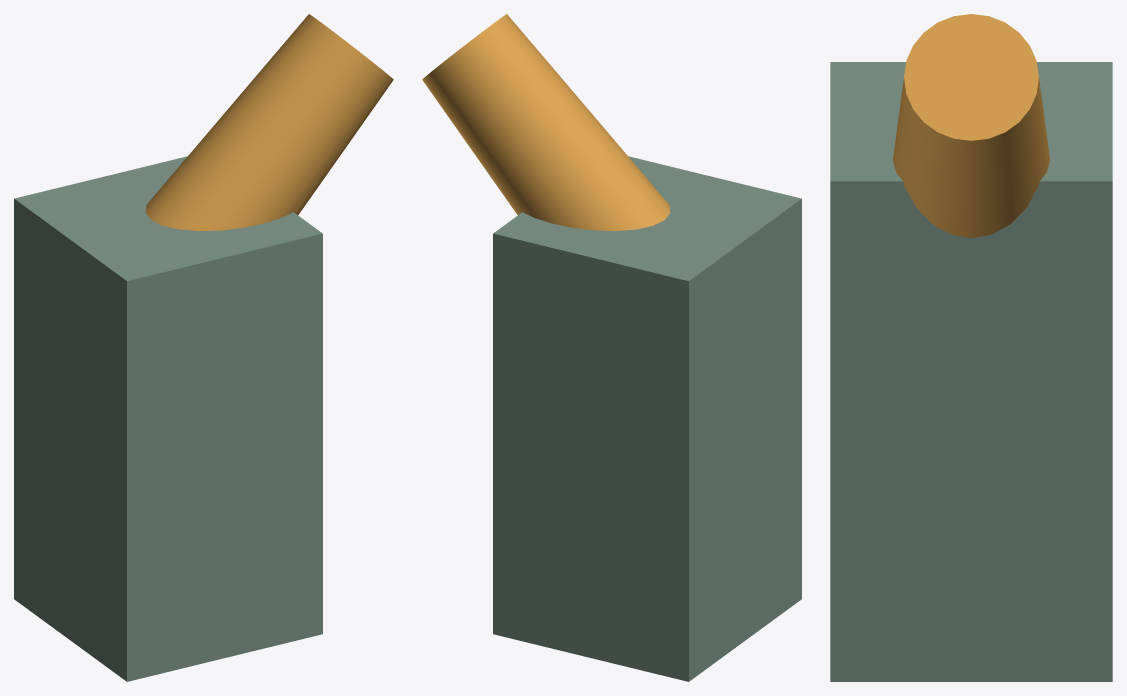
The model's file is projectile_launcher_rig.glb.
3 views of the same model, side by side, from view 1: azimuth 30°, elevation 25°; view 2: azimuth 150°, elevation 25°; view 3: azimuth 270°, elevation 25° (orthographic). The views are drawn at different scales.
Visible parts, largest first — view 1: Launcher_Pedestal, Launcher_Barrel; view 2: Launcher_Pedestal, Launcher_Barrel; view 3: Launcher_Pedestal, Launcher_Barrel.
Part boxes in pixels (box(x1,y1,x2,y2)): Launcher_Pedestal: box(14, 156, 322, 681); Launcher_Barrel: box(145, 14, 393, 230); Launcher_Pedestal: box(493, 156, 801, 681); Launcher_Barrel: box(422, 14, 670, 230); Launcher_Pedestal: box(830, 62, 1112, 681); Launcher_Barrel: box(892, 14, 1050, 238).
Bounding box in the file's own units: 0.7376 × 1.26 × 0.46.
